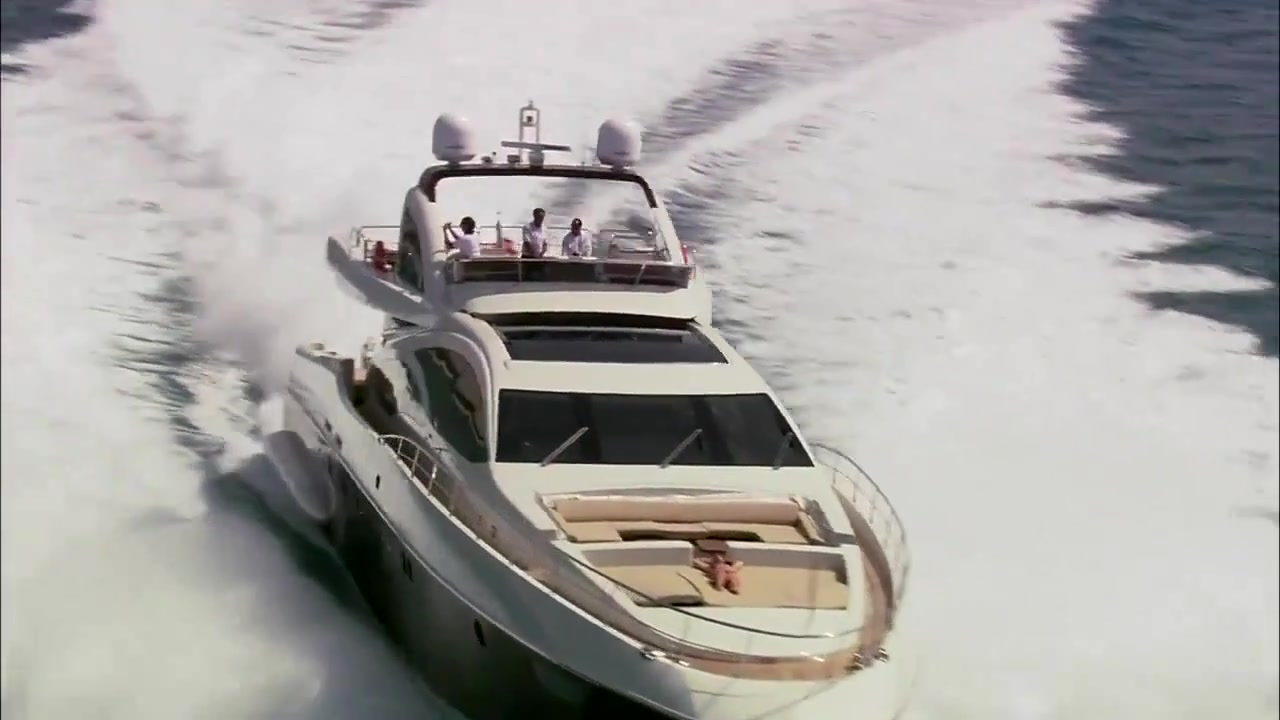boat: (288, 103, 927, 720)
